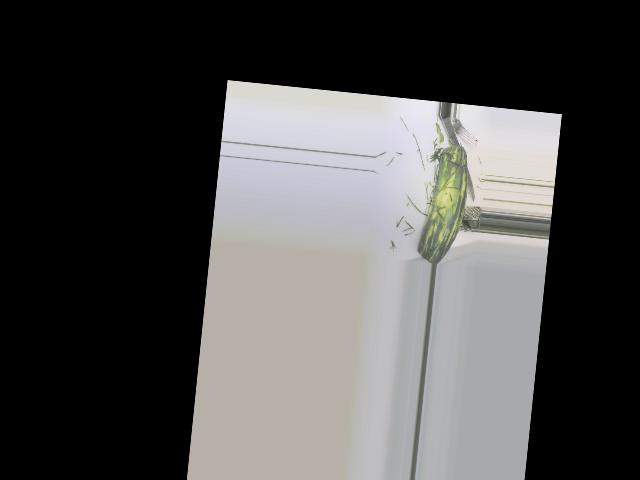cucumber: (415, 142, 471, 265)
